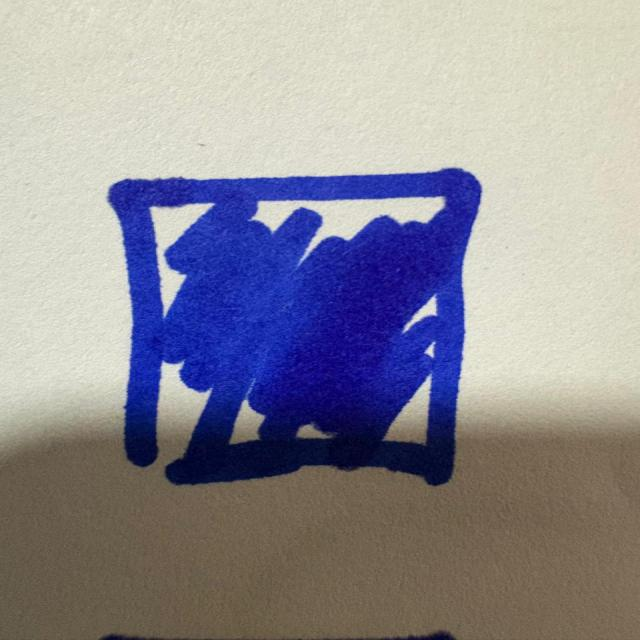Square: (100, 169, 512, 490)
